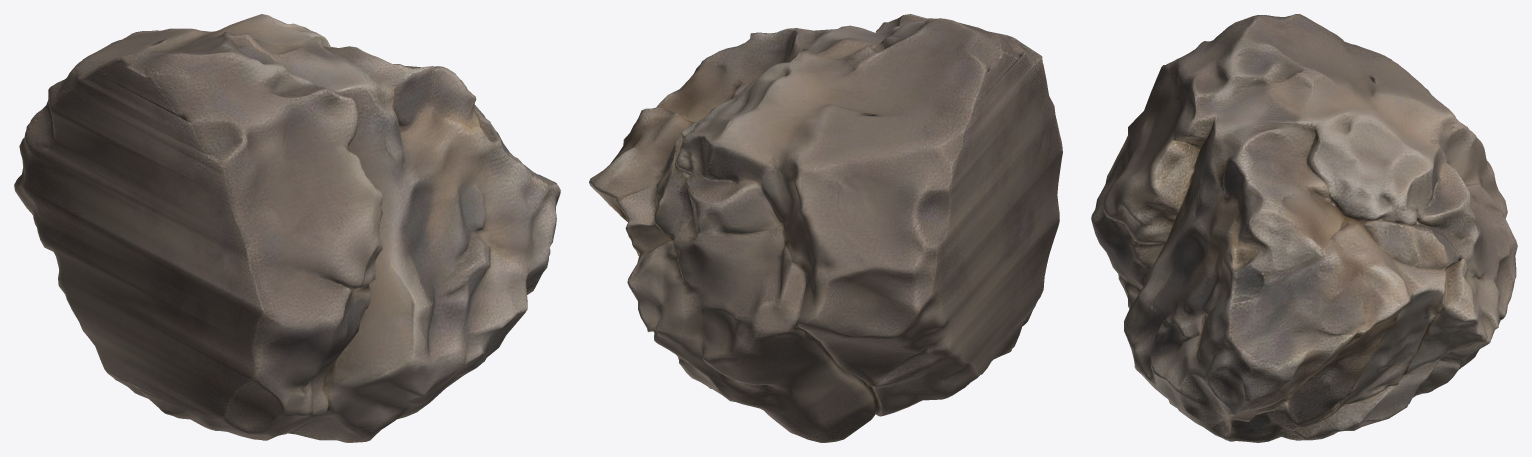
File: daniel-boulder-tripo-v31-v1.glb
3 renders of one model, left to right at view 1: azimuth 30°, elevation 25°; view 2: azimuth 150°, elevation 25°; view 3: azimuth 270°, elevation 25°, orthographic. The views are drawn at different scales.
Parts seen in each view (by area): view 1: tripo_node_92da4e11-4375-4f48-8e96-a9ea8ead0480; view 2: tripo_node_92da4e11-4375-4f48-8e96-a9ea8ead0480; view 3: tripo_node_92da4e11-4375-4f48-8e96-a9ea8ead0480.
Boxes of the visible parts, x1,y1,x2,y2 form: tripo_node_92da4e11-4375-4f48-8e96-a9ea8ead0480: (14,14,560,442); tripo_node_92da4e11-4375-4f48-8e96-a9ea8ead0480: (589,14,1062,442); tripo_node_92da4e11-4375-4f48-8e96-a9ea8ead0480: (1091,14,1517,442).
Size of the model in its own units: 0.998 by 0.8826 by 0.9961.
Materials: 1 (1 with a texture image).
